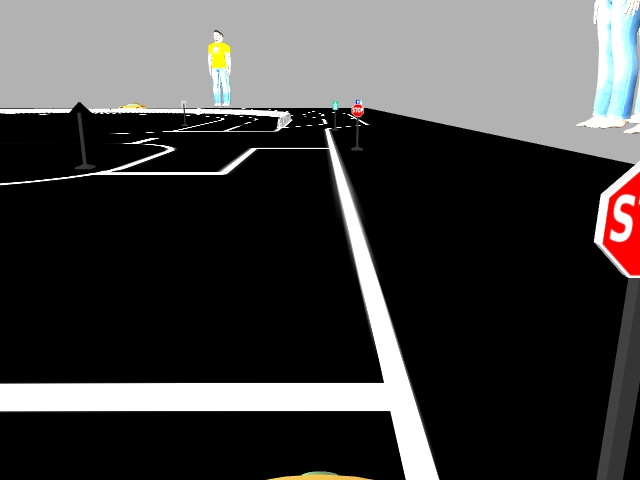Stop: (589, 149, 639, 286)
